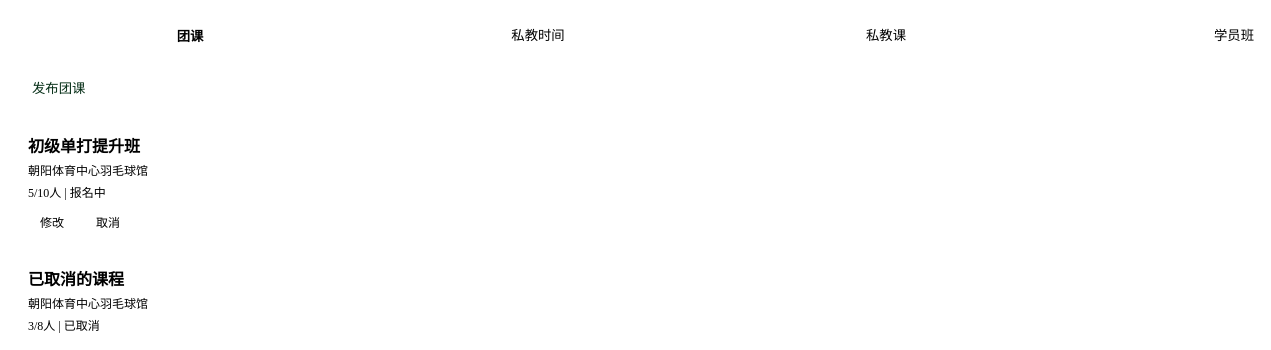
Test case: MyCourseManagementPage › should render slot list when switching to private schedule tab
The width and height of the screenshot is (1271, 350).
Note: Click private schedule tab
Click the button "私教时间": (538, 36) top-left (364, 17), bottom-right (712, 54)
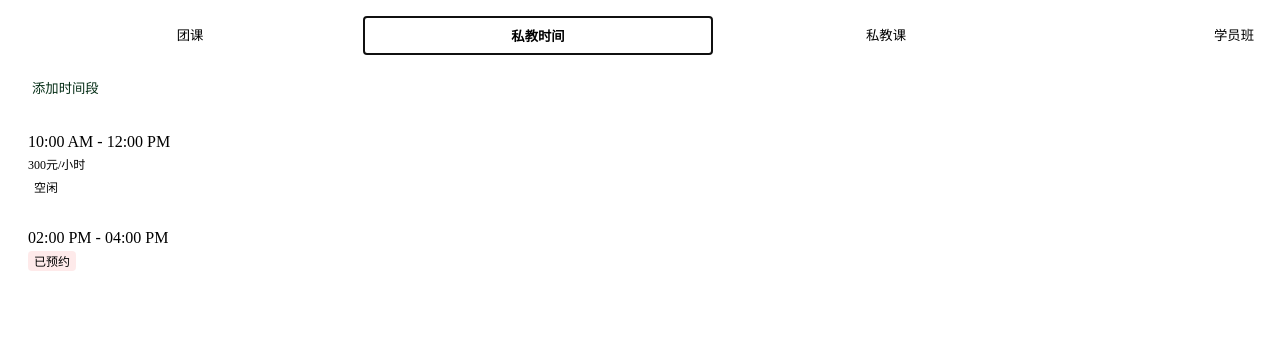
Expected: the button "添加时间段" is shown, top-left (16, 70), bottom-right (115, 105)
